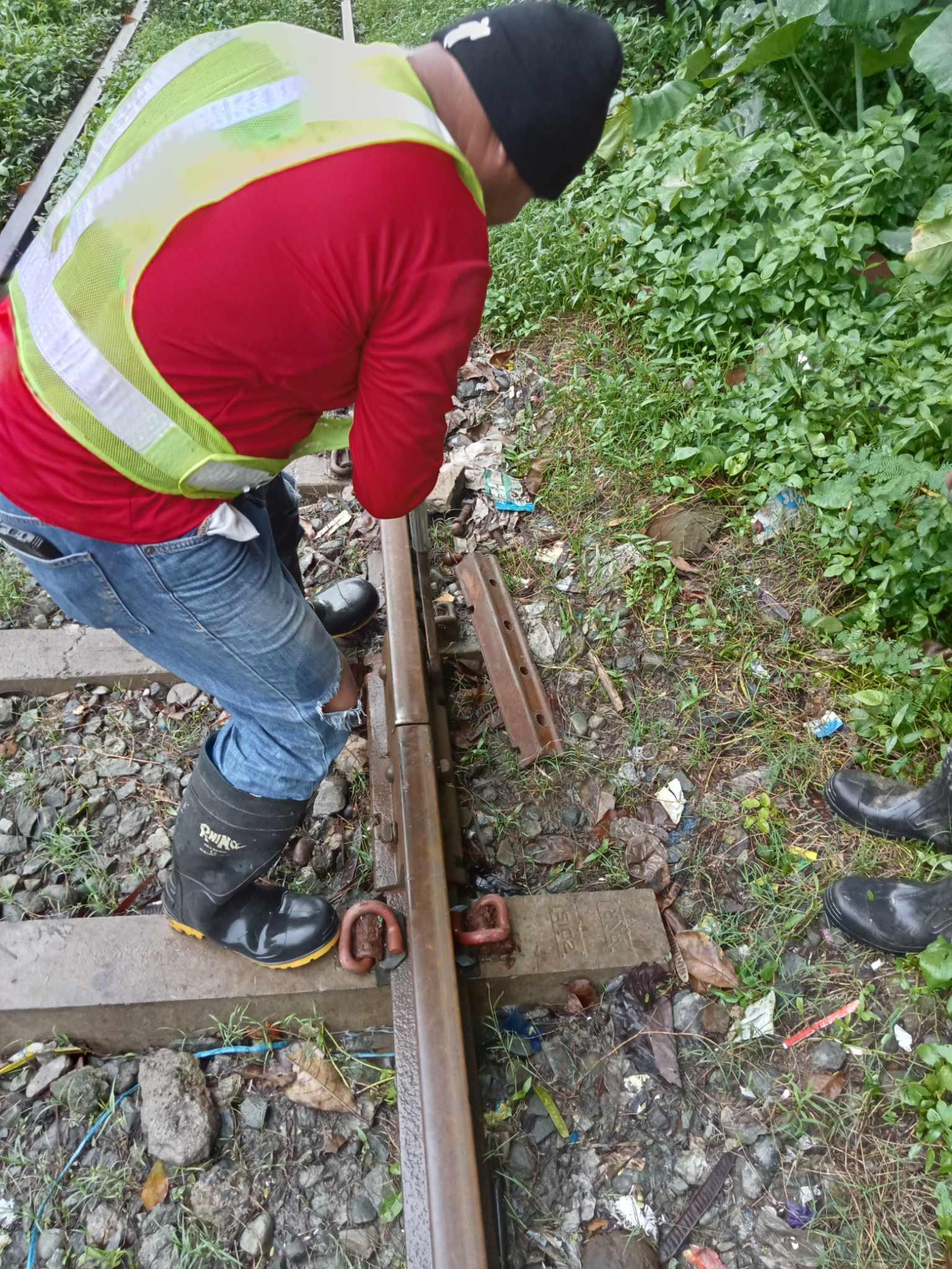railway-gap: (360, 678, 460, 774)
